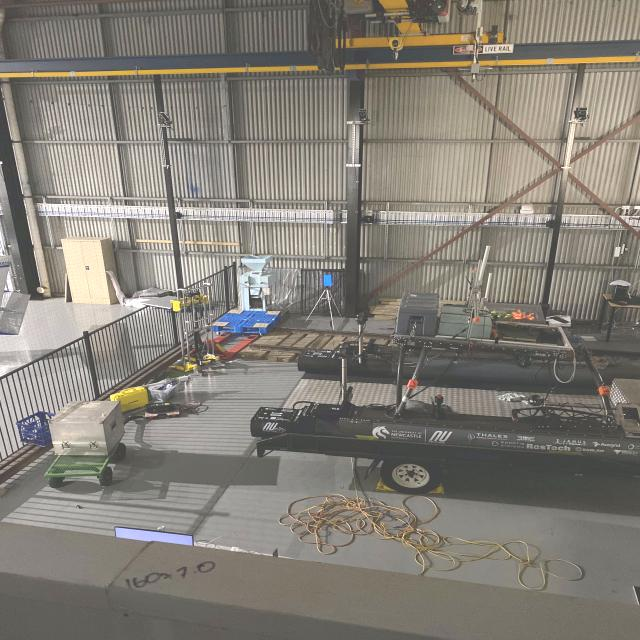matrix: (318, 270, 338, 293)
